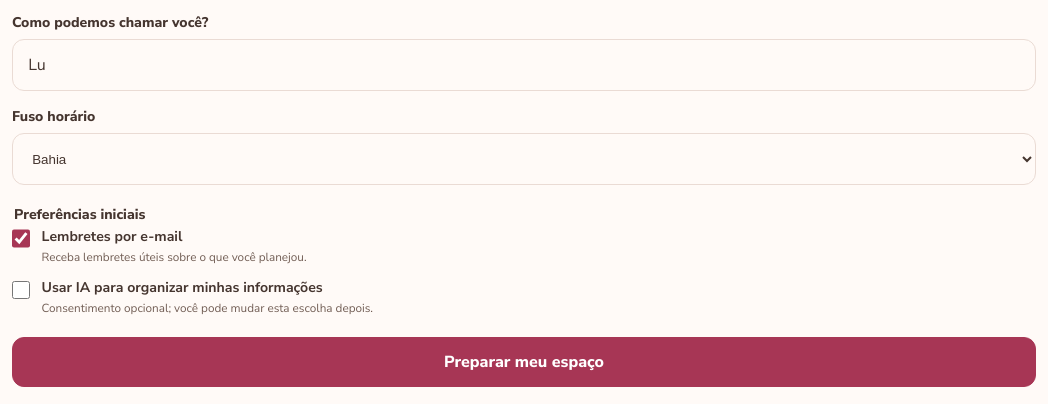
Test: OnboardingForm › announces a pending onboarding submission
This screenshot has width=1048, height=404.
Click the button "Preparar meu espaço". click: x=524, y=362
box: [12,337,1036,387]
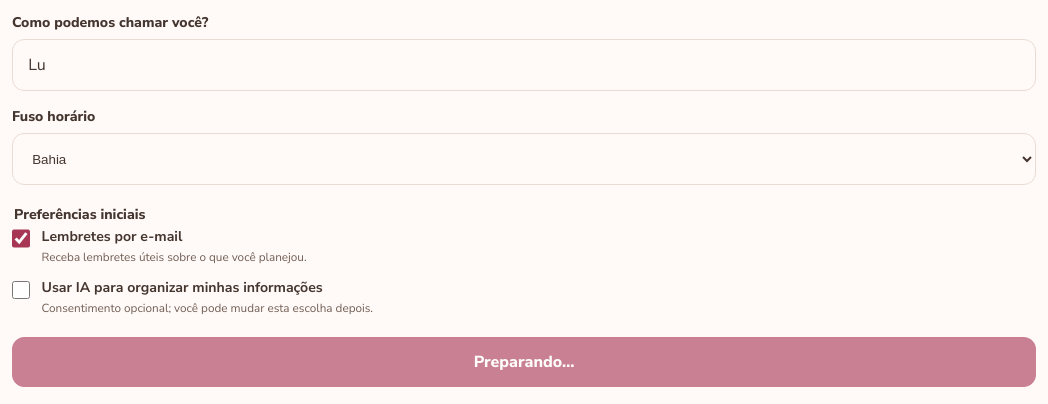
Expected: the button named "Preparar meu espaço" is disabled, [12,337,1036,387]
